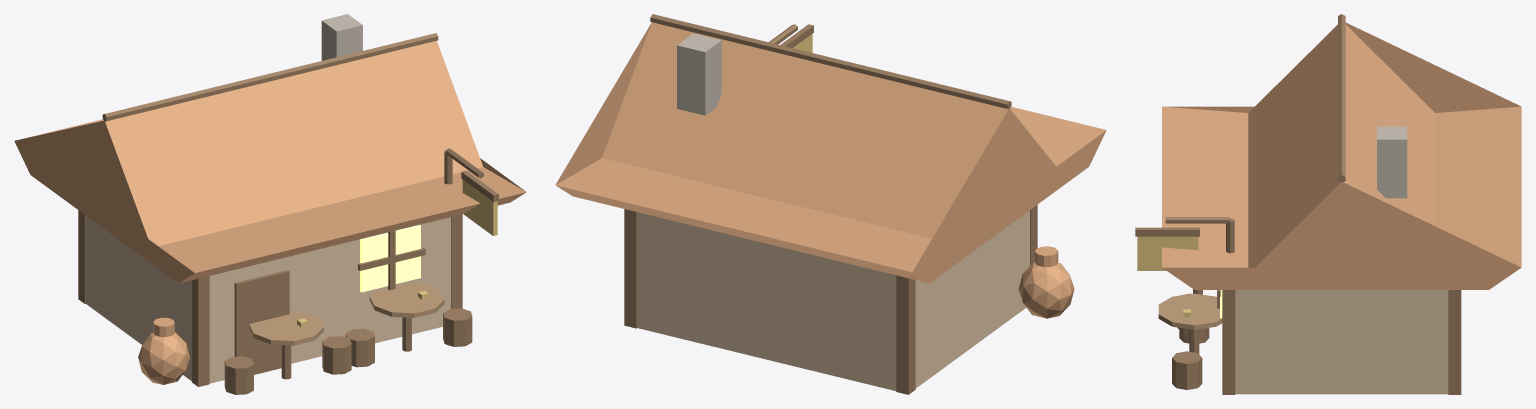
Rendered from tavern.glb.
3 views of the same model, side by side, from view 1: azimuth 30°, elevation 25°; view 2: azimuth 150°, elevation 25°; view 3: azimuth 270°, elevation 25° (orthographic). The views are drawn at different scales.
Parts seen in each view (by area): view 1: roof, walls, door, ridge, window_f, jar, table_top_1, post_-1_1, table_top_0, chimney, post_1_1, stool_0_1 (+6 smaller); view 2: roof, walls, chimney, ridge, jar, post_-1_-1, post_1_-1; view 3: roof, walls, chimney, table_top_1, post_1_1, post_1_-1, sign, ridge, stool_1_1, sign_band, sign_beam.
Boxes of the visible parts, box(x1,y1,x2,y2) form: roof: box(14, 40, 526, 283); walls: box(85, 216, 450, 383); door: box(234, 270, 289, 374); ridge: box(102, 33, 438, 121); window_f: box(360, 224, 420, 292); jar: box(138, 332, 189, 384); table_top_1: box(369, 283, 444, 317); post_-1_1: box(192, 276, 209, 386); table_top_0: box(249, 311, 323, 345); chimney: box(321, 14, 362, 60); post_1_1: box(451, 214, 462, 308); stool_0_1: box(322, 336, 351, 374); roof: box(555, 22, 1106, 283); walls: box(637, 210, 1029, 390); chimney: box(677, 33, 721, 115); ridge: box(650, 14, 1011, 109); jar: box(1018, 262, 1074, 318); post_-1_-1: box(896, 275, 915, 394); post_1_-1: box(624, 209, 636, 328); roof: box(1162, 22, 1521, 289); walls: box(1235, 290, 1448, 394); chimney: box(1377, 126, 1407, 198); table_top_1: box(1158, 293, 1222, 329); post_1_1: box(1222, 290, 1235, 394); post_1_-1: box(1448, 290, 1461, 394); sign: box(1137, 236, 1198, 270); ridge: box(1338, 14, 1345, 182); stool_1_1: box(1172, 351, 1202, 389); sign_band: box(1135, 227, 1199, 236); sign_beam: box(1165, 217, 1230, 223).
Size of the model in its own units: 5.07 by 3.5 by 4.99.
